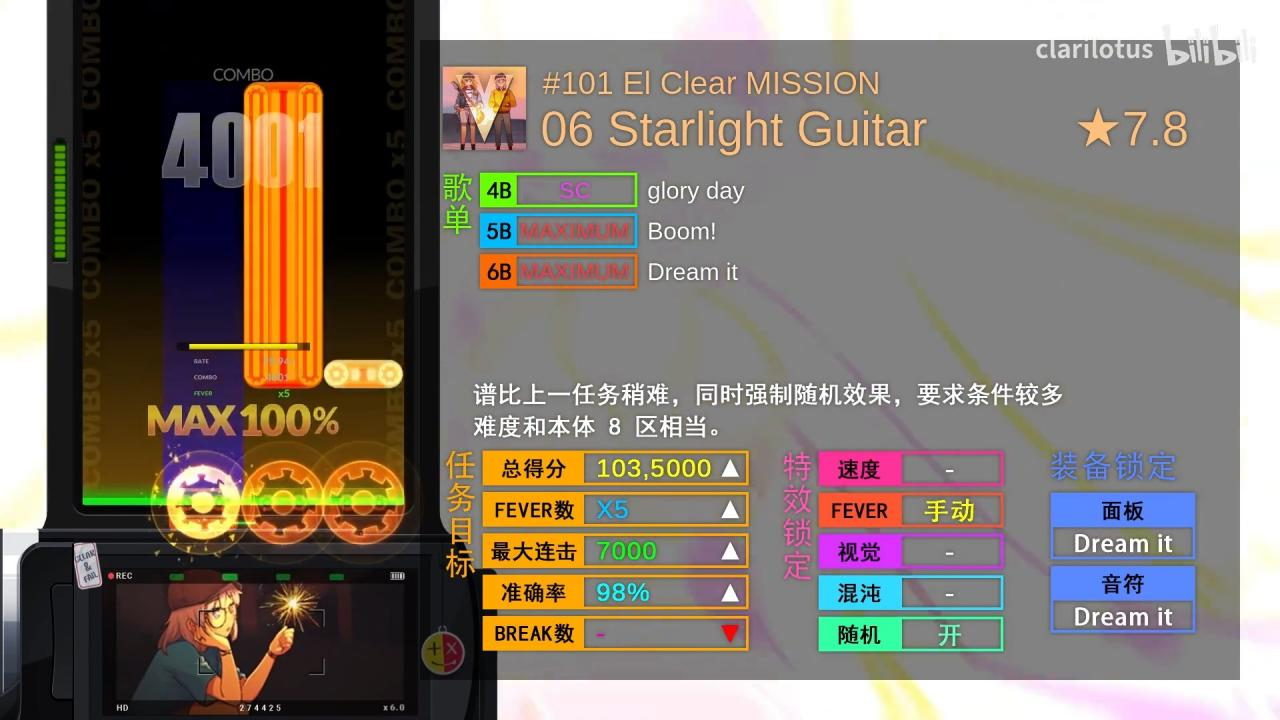hold-end: (244, 80, 324, 108)
hold-start: (244, 358, 322, 389)
note: (324, 360, 403, 389)
